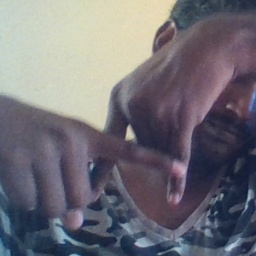H: (73, 87, 199, 213)
